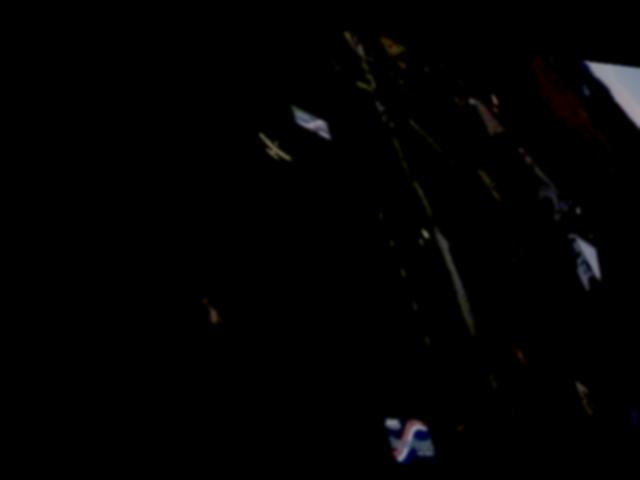uav: (257, 124, 296, 158)
